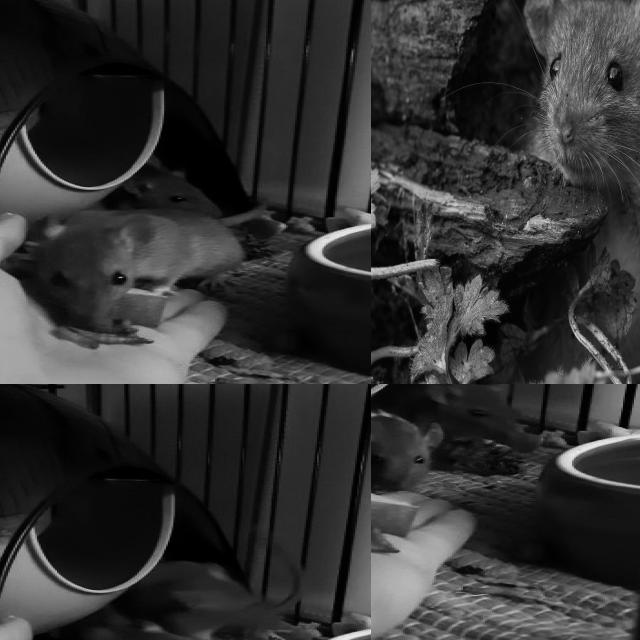rat: (521, 0, 640, 384), (26, 209, 247, 326), (128, 561, 278, 639), (372, 384, 526, 448), (371, 402, 447, 494), (51, 608, 249, 640)
